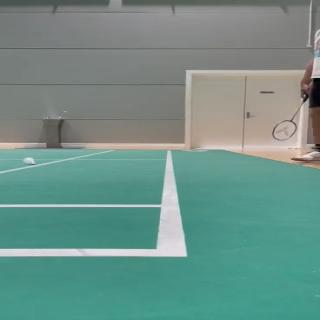Shuttle: (22, 157, 37, 166)
